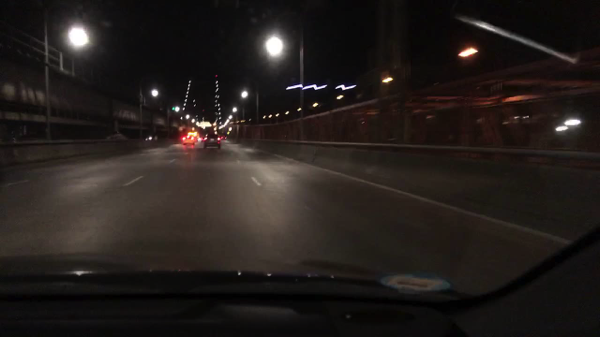car: (202, 132, 222, 150), (183, 135, 196, 146), (146, 135, 158, 143), (219, 134, 226, 141)
